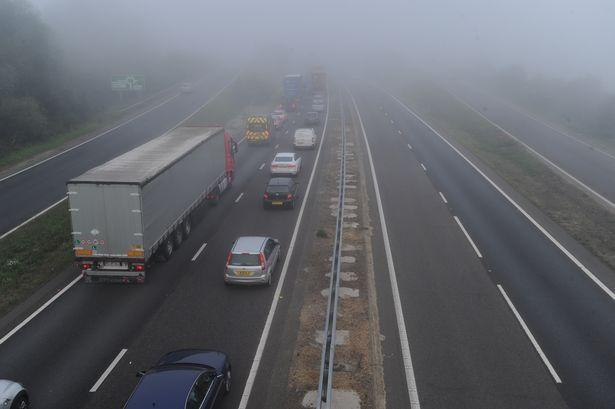bus: (61, 120, 240, 286), (244, 112, 277, 148), (282, 73, 305, 102), (311, 69, 327, 94)
car: (119, 347, 233, 409), (223, 234, 282, 288), (263, 176, 299, 211), (270, 152, 304, 179), (293, 127, 317, 151), (303, 112, 321, 128), (271, 108, 289, 123), (311, 95, 325, 114), (179, 82, 193, 94)
